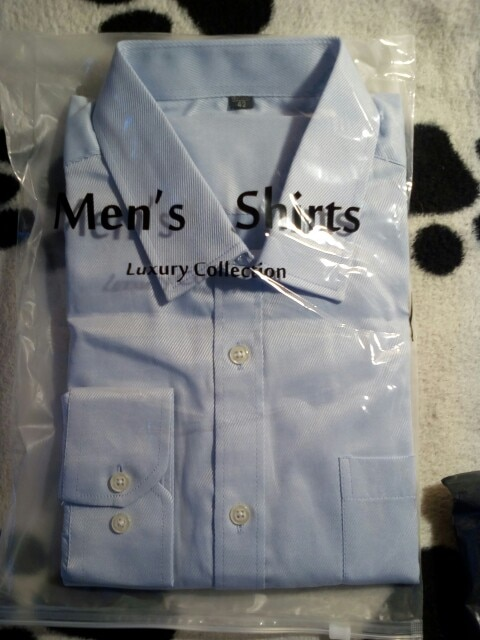shirts: (76, 46, 417, 570)
